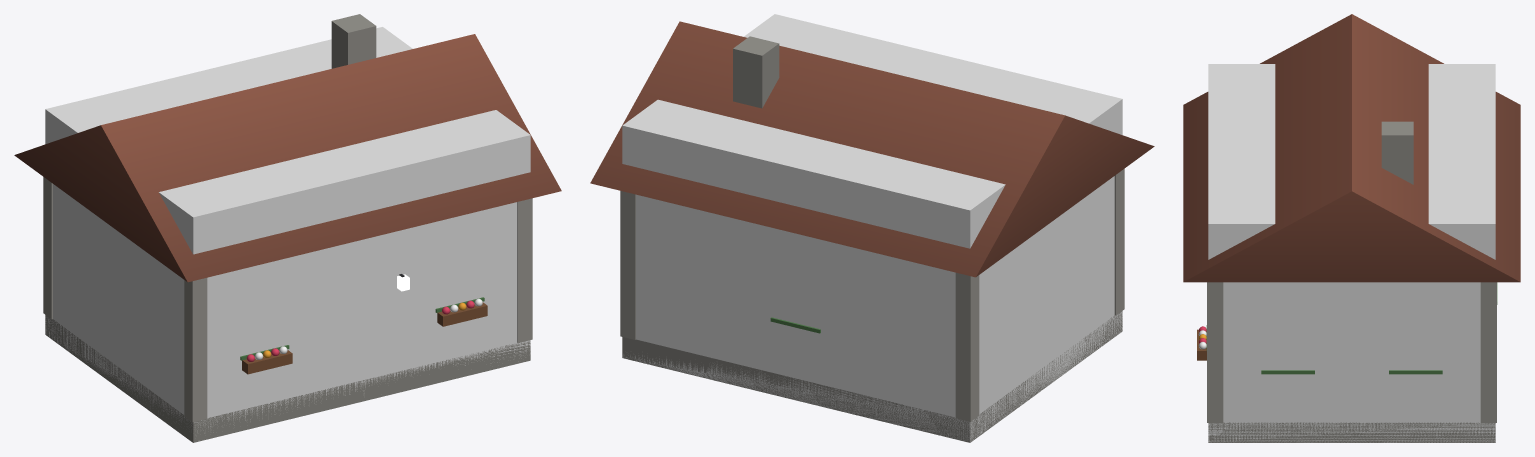
Rendered from casa_campo_verde.glb.
3 views of the same model, side by side, from view 1: azimuth 30°, elevation 25°; view 2: azimuth 150°, elevation 25°; view 3: azimuth 270°, elevation 25° (orthographic). The views are drawn at different scales.
Visible parts, largest first — view 1: COL_0, casa_campo_verde_Malla; view 2: COL_0, casa_campo_verde_Malla; view 3: COL_0, casa_campo_verde_Malla.
Boxes of the visible parts, left/top/right/bottom form: COL_0: left=45, top=27, right=530, bottom=440; casa_campo_verde_Malla: left=14, top=14, right=561, bottom=442; COL_0: left=622, top=14, right=1122, bottom=442; casa_campo_verde_Malla: left=590, top=21, right=1154, bottom=442; COL_0: left=1208, top=64, right=1495, bottom=442; casa_campo_verde_Malla: left=1183, top=14, right=1520, bottom=442.
Bounding box in the file's own units: 9.2 × 6.7 × 7.4.
